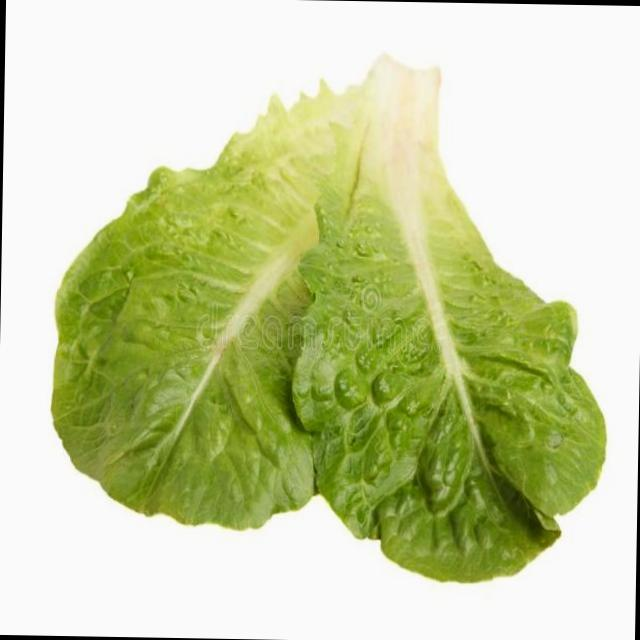Lettuce-Ready-to-Harvest: (292, 60, 604, 580), (52, 91, 340, 527)
